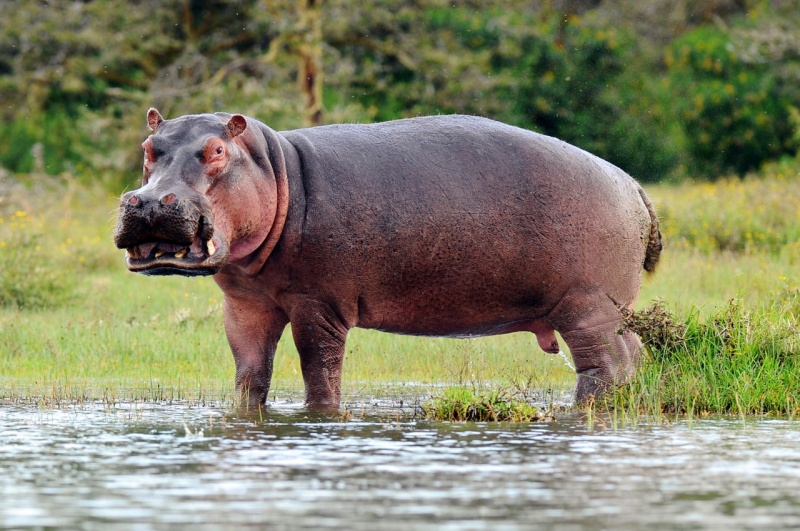hipopotamo: (106, 96, 680, 419)
